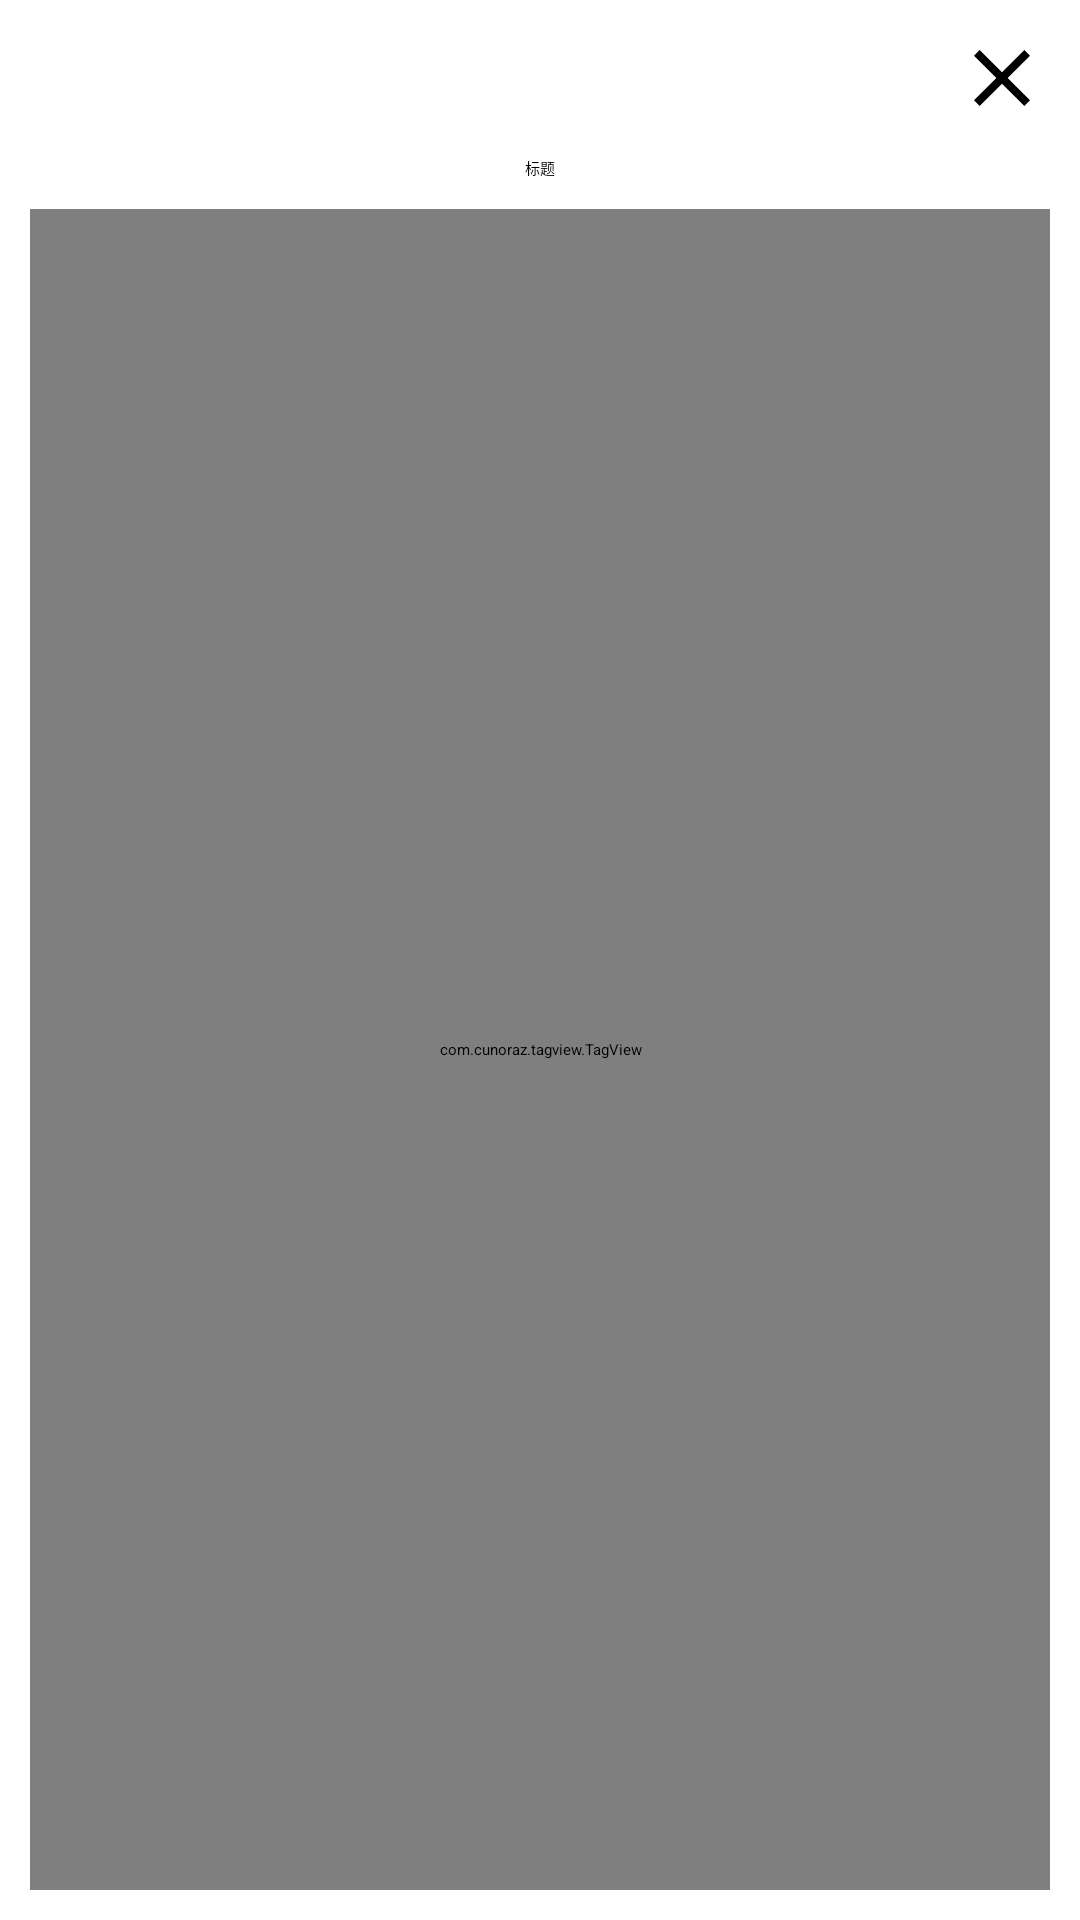

Named icons in this screenshot (1080x1920) and their centers, point (x, y):
close: point (1002, 78)
